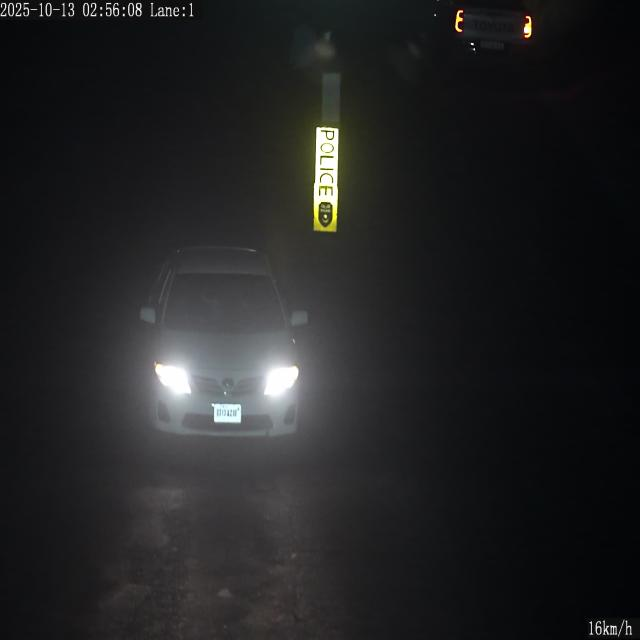BUS: (213, 403, 241, 424), (481, 41, 504, 50)
